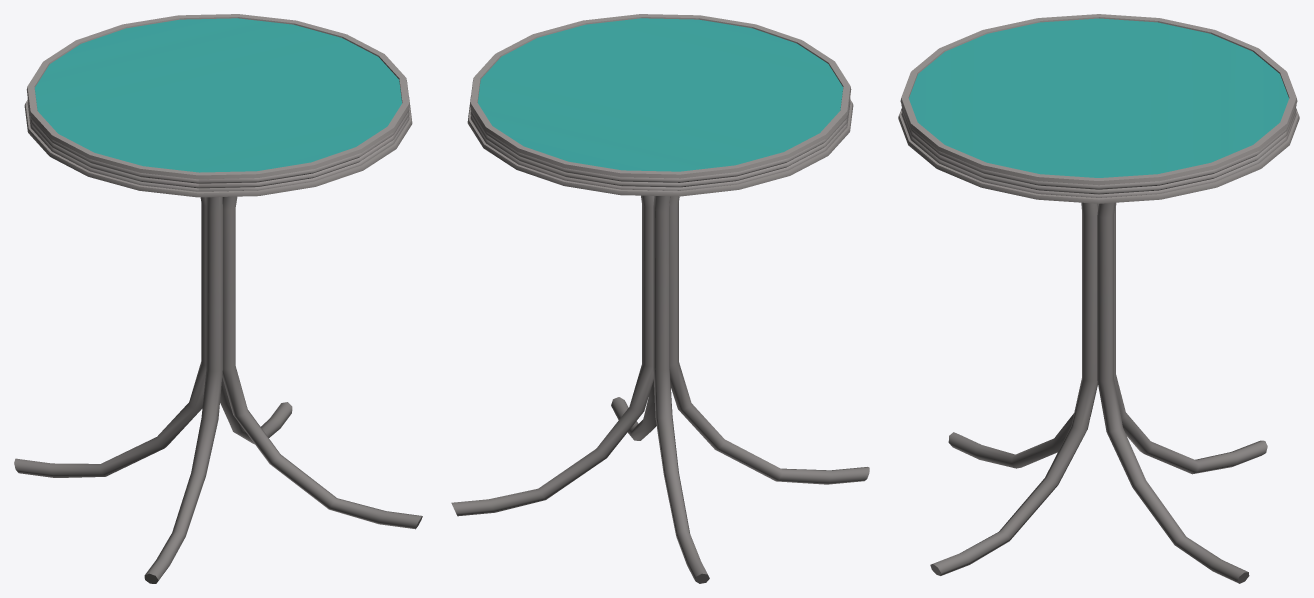
File: Table_Round.fbx
3 renders of one model, left to right at view 1: azimuth 30°, elevation 25°; view 2: azimuth 150°, elevation 25°; view 3: azimuth 270°, elevation 25°, orthographic. The views are drawn at different scales.
Parts seen in each view (by area): view 1: Table_Round; view 2: Table_Round; view 3: Table_Round.
Part boxes in pixels (x1,y1,x2,y2): Table_Round: [14, 14, 422, 583]; Table_Round: [451, 14, 869, 583]; Table_Round: [898, 14, 1299, 583].
Bounding box in the file's own units: 0.9191 × 1.06 × 0.9191.
